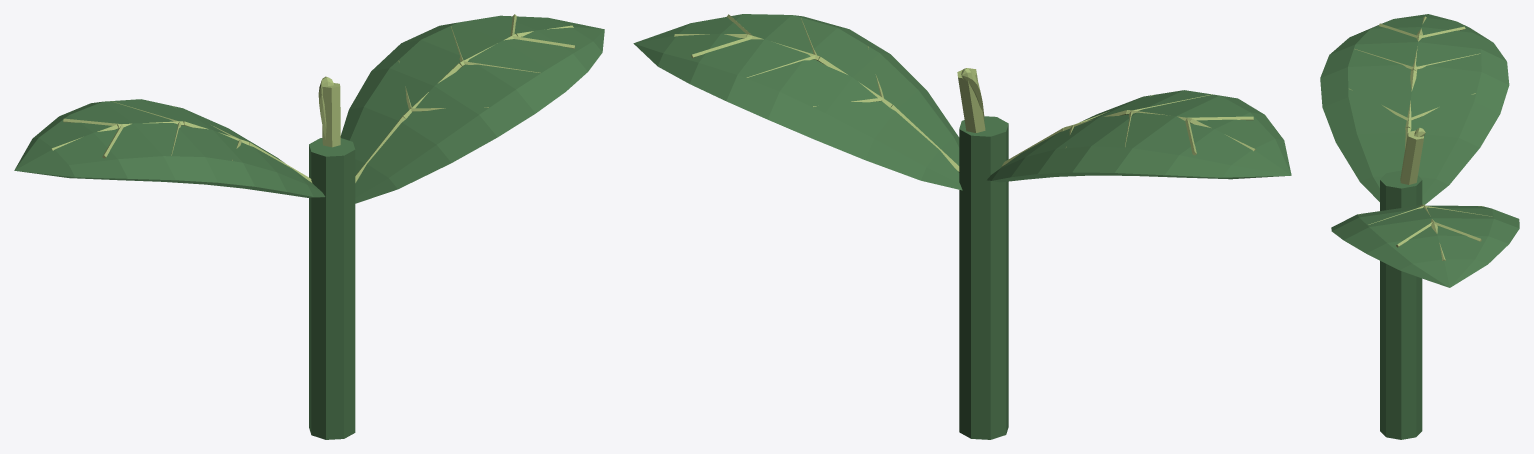
File: SM_Seedling.fbx
3 views of the same model, side by side, from view 1: azimuth 30°, elevation 25°; view 2: azimuth 150°, elevation 25°; view 3: azimuth 270°, elevation 25° (orthographic). The views are drawn at different scales.
Visible parts, largest first — view 1: SeedlingMesh; view 2: SeedlingMesh; view 3: SeedlingMesh.
Boxes of the visible parts, left/top/right/bottom form: SeedlingMesh: left=14, top=14, right=604, bottom=439; SeedlingMesh: left=633, top=14, right=1291, bottom=439; SeedlingMesh: left=1320, top=14, right=1519, bottom=439.
Size of the model in its own units: 0.4317 by 0.2381 by 0.1395.
